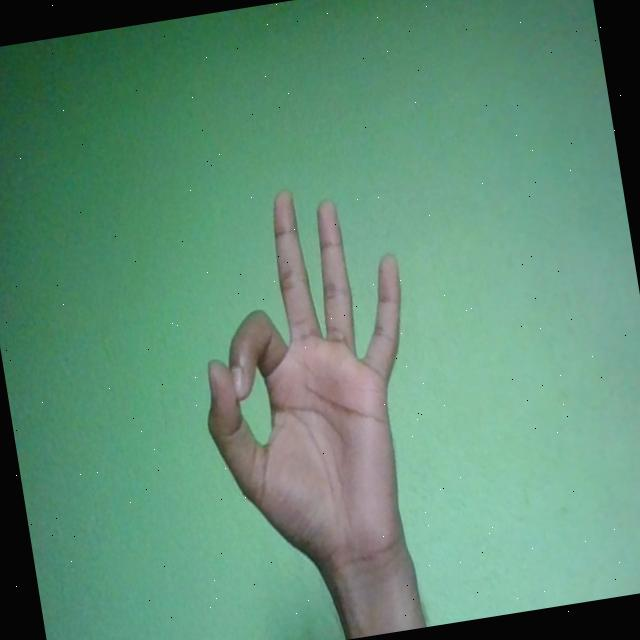Rock On: (174, 170, 446, 596)
